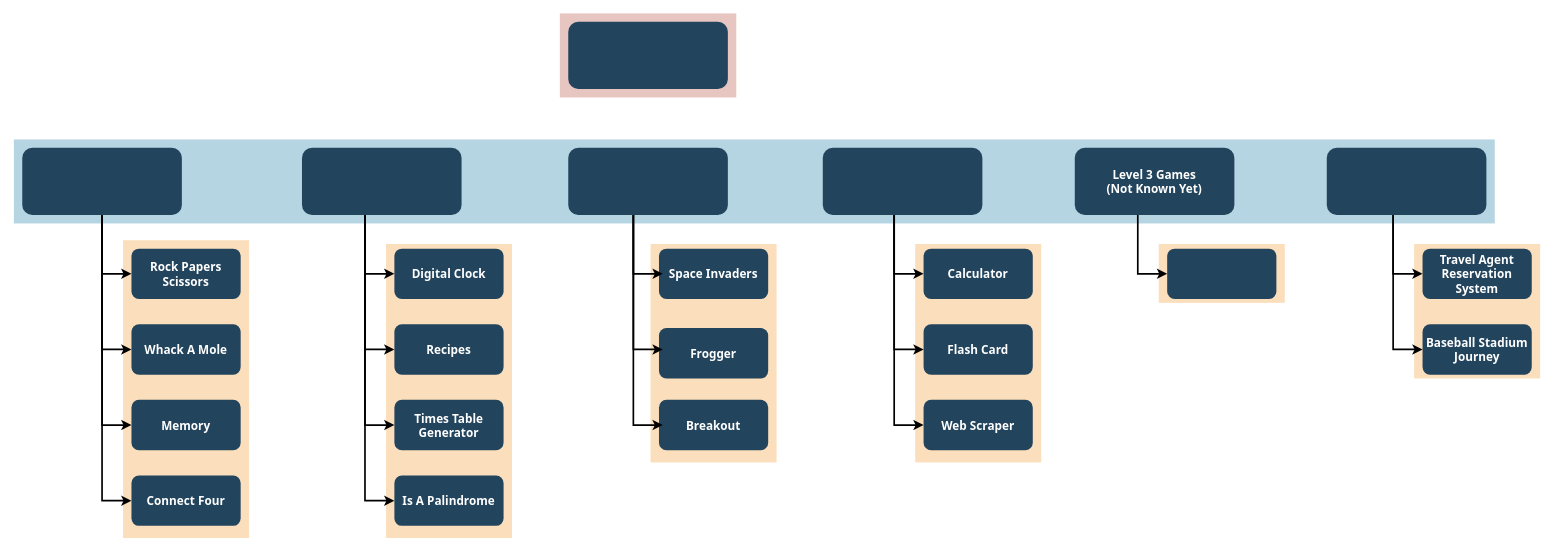
This 1554x552 diagram has some shape labels left out. The shapes that lost their labels are listed below. From the top down, each one's centre as x and y in pixels, then its label:
the point at 647,55: __container (React)
the point at 101,181: Level 1 Games (Vanilla)
the point at 381,181: Level 1 Projects (Vanilla)
the point at 647,181: Level 2 Games (Vanilla)
the point at 902,181: Level 2 Projects (Vanilla)
the point at 1406,181: Level 3 Projects (Not Known Yet)
the point at 1221,273: Wordle
